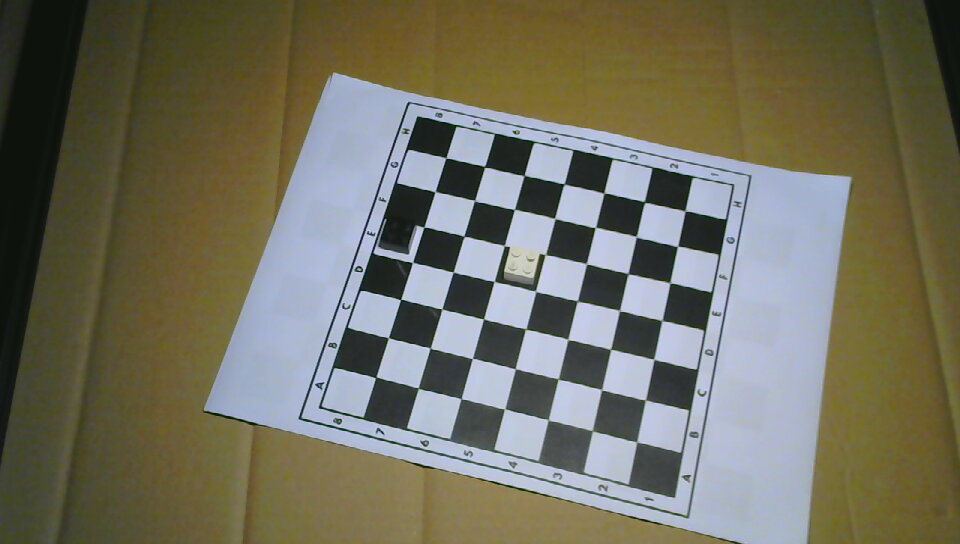bp: (379, 214, 417, 254)
wp: (502, 246, 541, 285)
